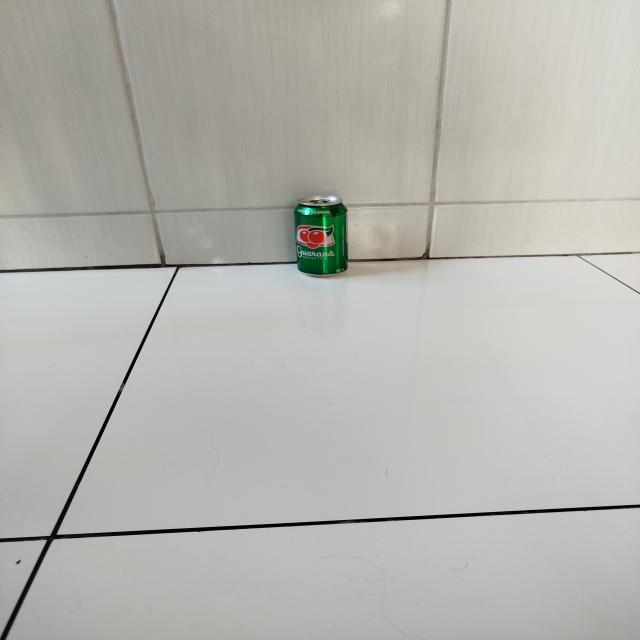Guarana: (292, 196, 349, 276)
